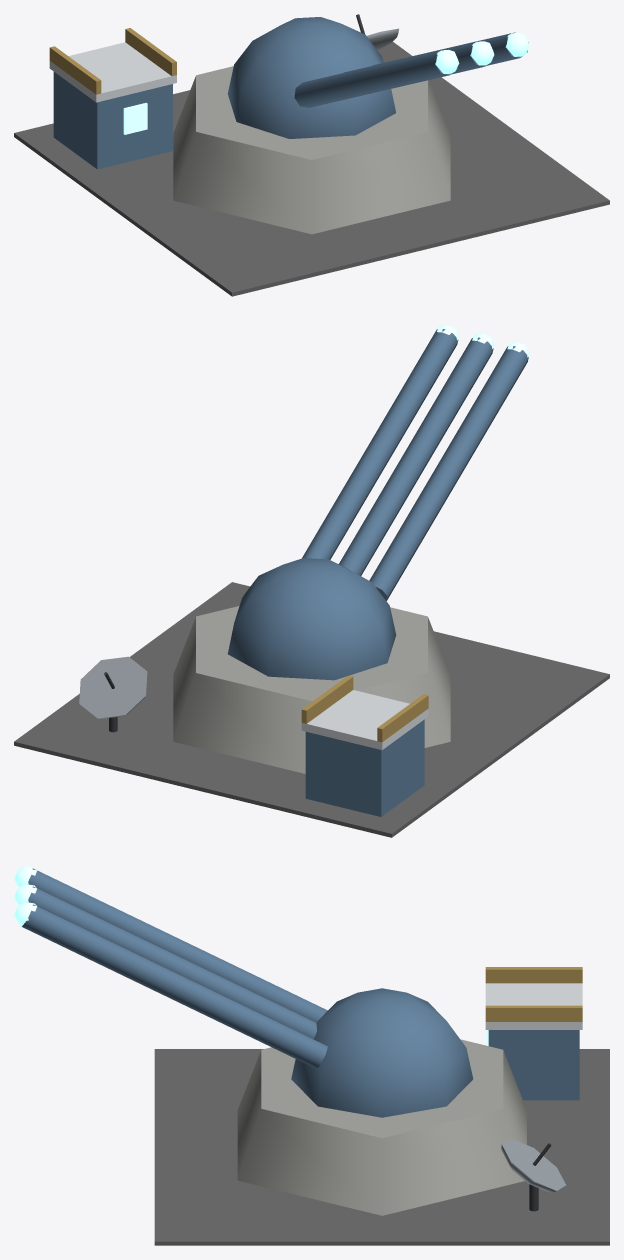
Rendered from bld_special_planetary_defense_a10_lod1.glb.
The picture shows the model from 3 angles, top to bottom: view 1: azimuth 30°, elevation 25°; view 2: azimuth 150°, elevation 25°; view 3: azimuth 270°, elevation 25°; orthographic projection. The views are drawn at different scales.
Parts seen in each view (by area): view 1: body, turret, antenna; view 2: body, turret, antenna; view 3: body, turret, antenna.
Boxes of the visible parts, x1,y1,x2,y2 form: body: (14, 28, 609, 296); turret: (227, 17, 529, 138); antenna: (356, 14, 398, 49); body: (14, 582, 609, 837); turret: (228, 325, 529, 680); antenna: (79, 656, 147, 732); body: (154, 967, 609, 1245); turret: (14, 866, 473, 1117); antenna: (501, 1138, 565, 1211).
Size of the model in its own units: 15 by 9.62 by 19.63.
